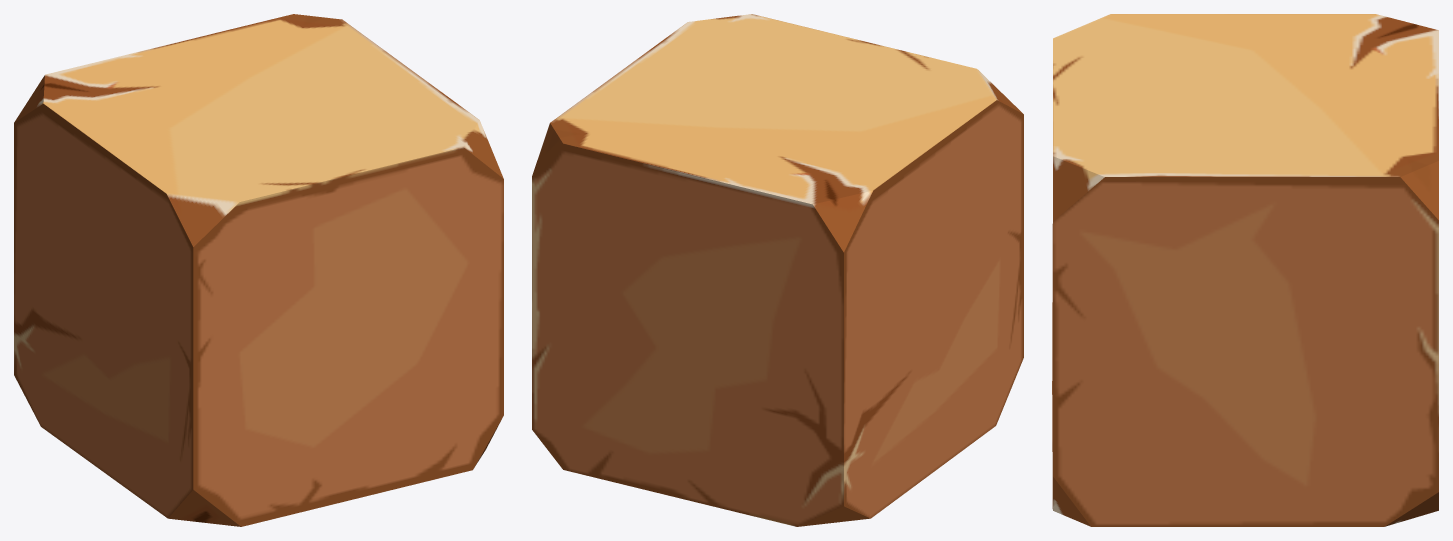
File: Rock_001.fbx
3 views of the same model, side by side, from view 1: azimuth 30°, elevation 25°; view 2: azimuth 150°, elevation 25°; view 3: azimuth 270°, elevation 25° (orthographic). The views are drawn at different scales.
Visible parts, largest first — view 1: Cube; view 2: Cube; view 3: Cube.
Boxes of the visible parts, box(x1,y1,x2,y2) form: Cube: box(14, 14, 503, 526); Cube: box(532, 14, 1023, 526); Cube: box(1052, 14, 1438, 526).
Size of the model in its own units: 2 by 2 by 2.
Materials: 1 (1 with a texture image).
